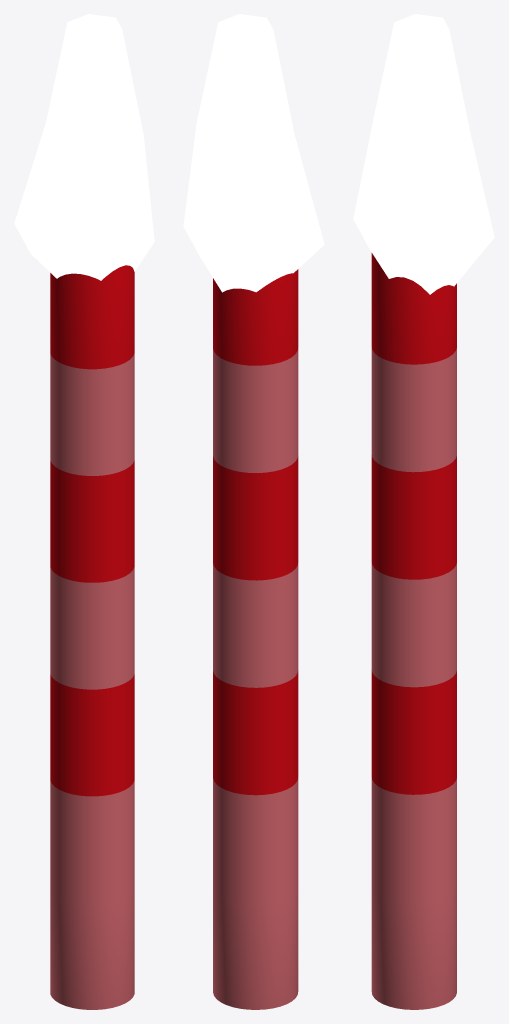
Rendered from candle2.glb.
3 views of the same model, side by side, from view 1: azimuth 30°, elevation 25°; view 2: azimuth 150°, elevation 25°; view 3: azimuth 270°, elevation 25° (orthographic).
Visible parts, largest first — view 1: body, flame; view 2: body, flame; view 3: body, flame.
Part boxes in pixels (box(x1,y1,x2,y2)): body: box(50, 265, 134, 1009); flame: box(14, 14, 154, 280); body: box(213, 269, 298, 1009); flame: box(183, 14, 324, 292); body: box(371, 253, 456, 1009); flame: box(353, 14, 494, 294).
Size of the model in its own units: 0.0675 by 0.5005 by 0.0663.
